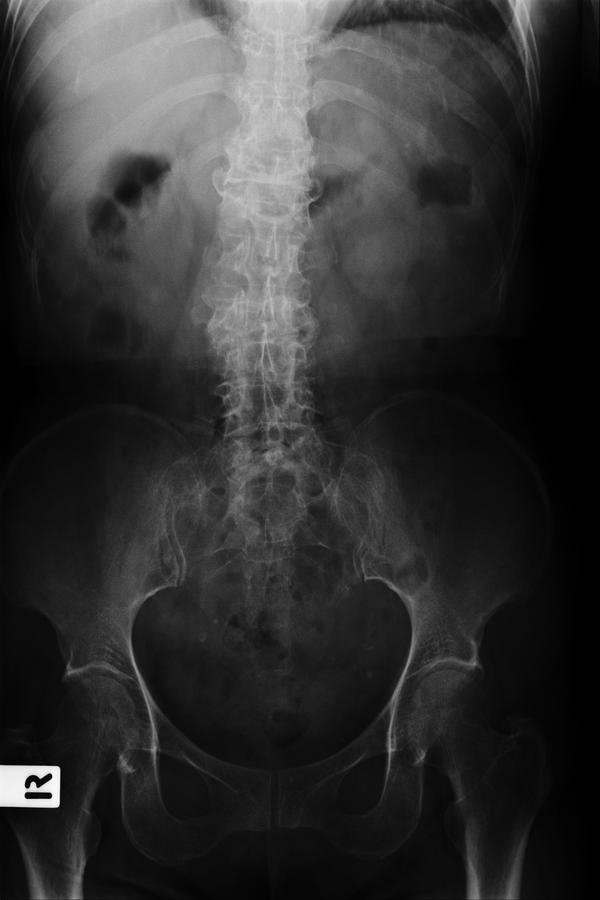lumbar scoliosis: (198, 9, 329, 484)
